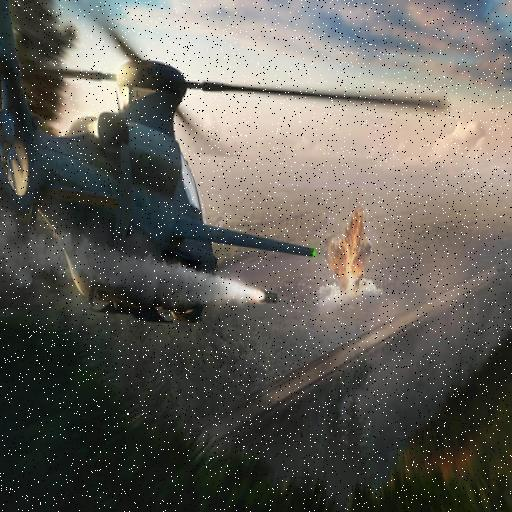helicopter: (1, 1, 285, 349)
